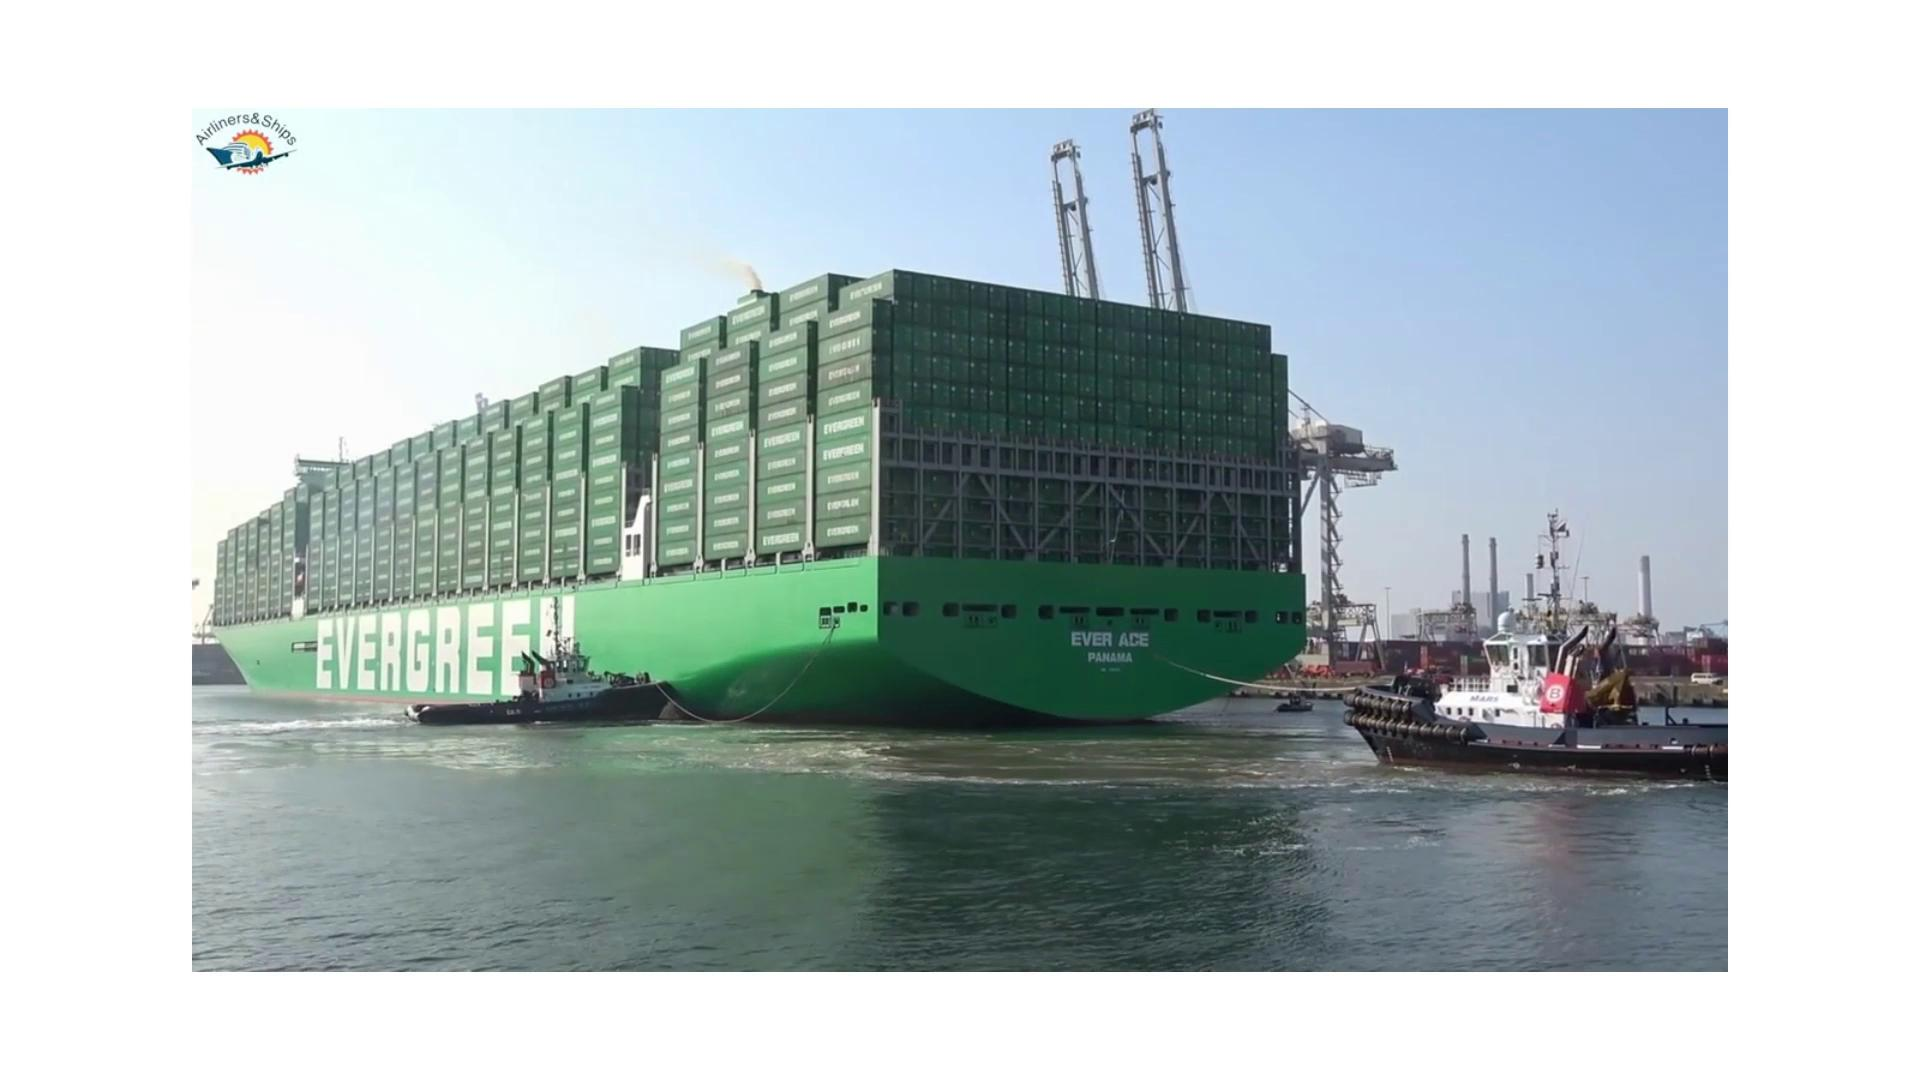OCR: (302, 585, 584, 717), (1058, 616, 1164, 679)
